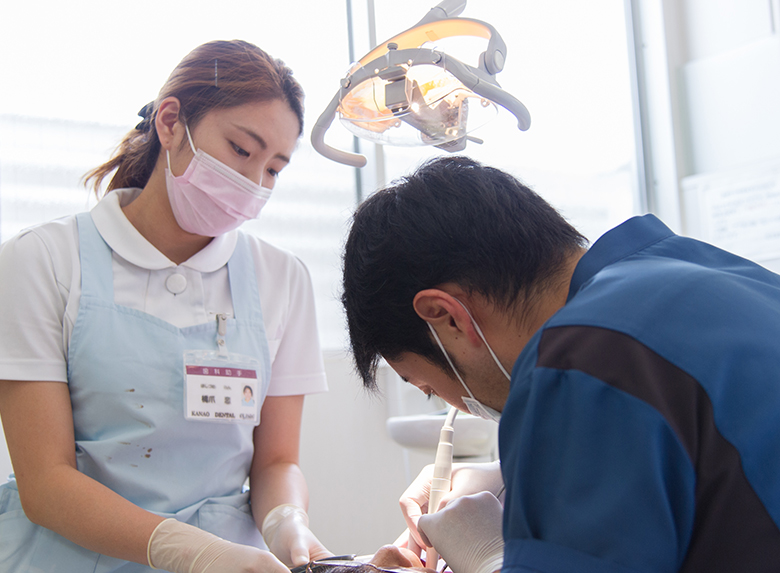mask: (164, 150, 273, 236)
